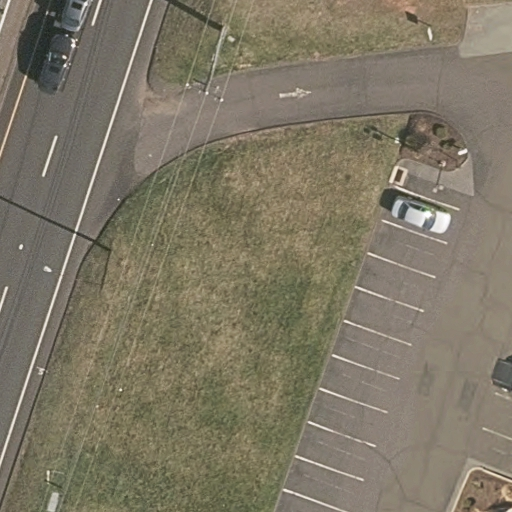DT: (177, 23, 243, 104)
